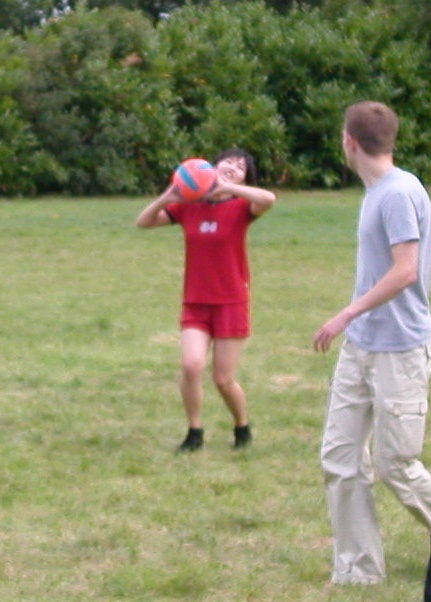person: (166, 145, 256, 454)
